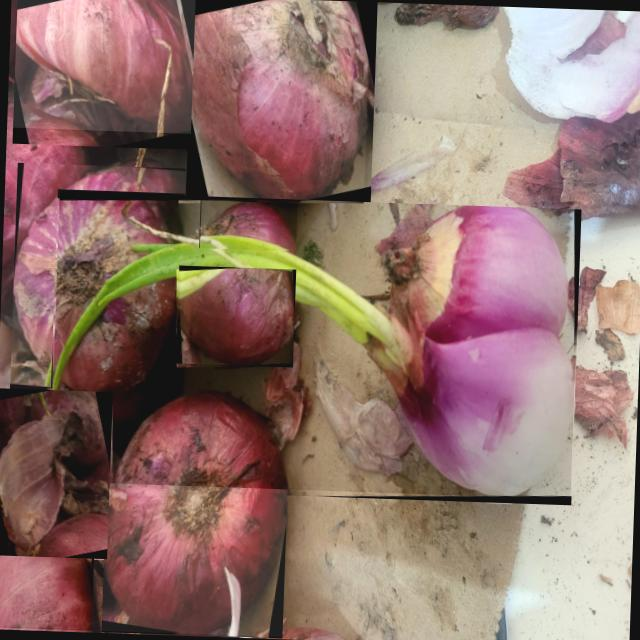healthy: (16, 0, 193, 133), (0, 519, 92, 629)
rotten: (103, 392, 287, 633), (13, 167, 181, 391), (189, 0, 368, 202), (0, 390, 110, 556), (179, 267, 294, 365), (202, 202, 296, 250)
sprouting: (53, 205, 574, 496)
